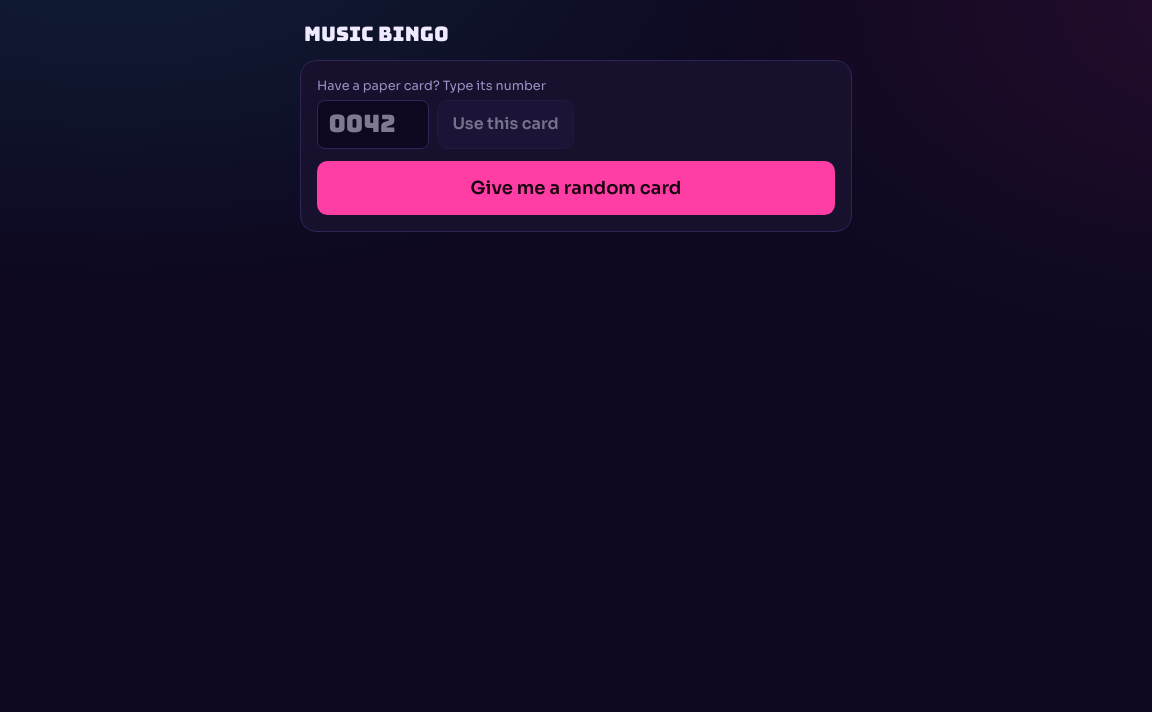
a phone link knows the printed card range and refuses numbers outside it
Type "9" into the field named "Card number" at {"x": 373, "y": 124}, box left=317, top=100, right=429, bottom=149
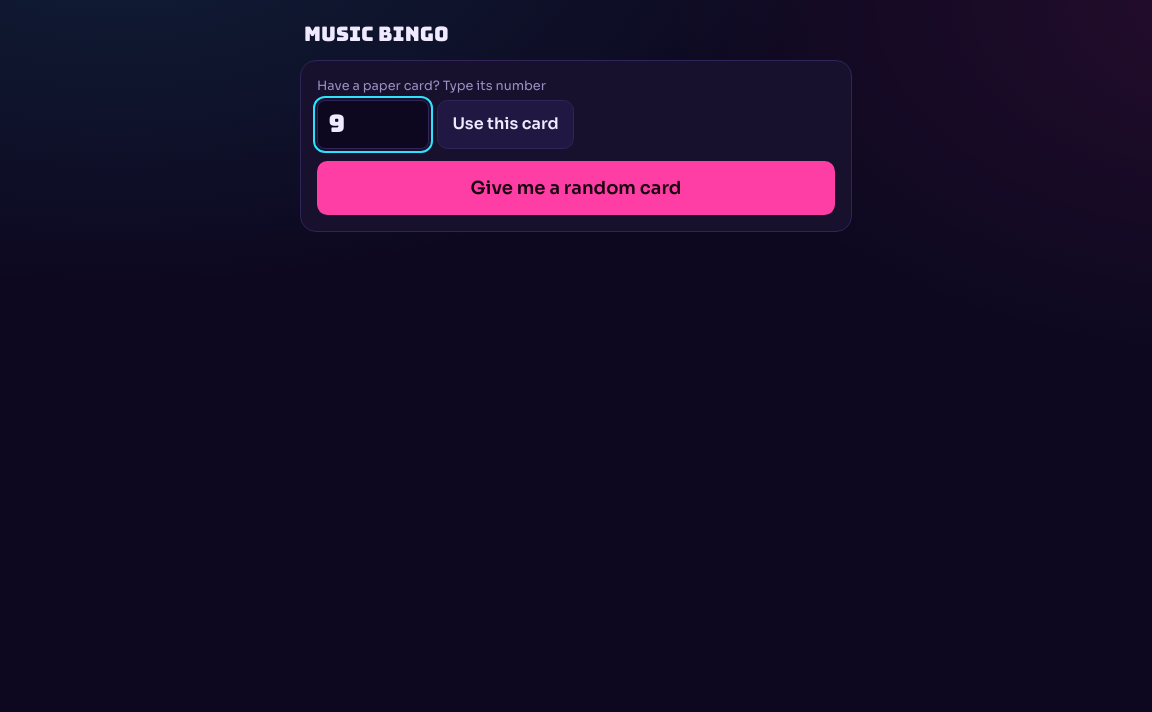
Click the button "Use this card" at {"x": 506, "y": 124}, box left=437, top=100, right=574, bottom=149
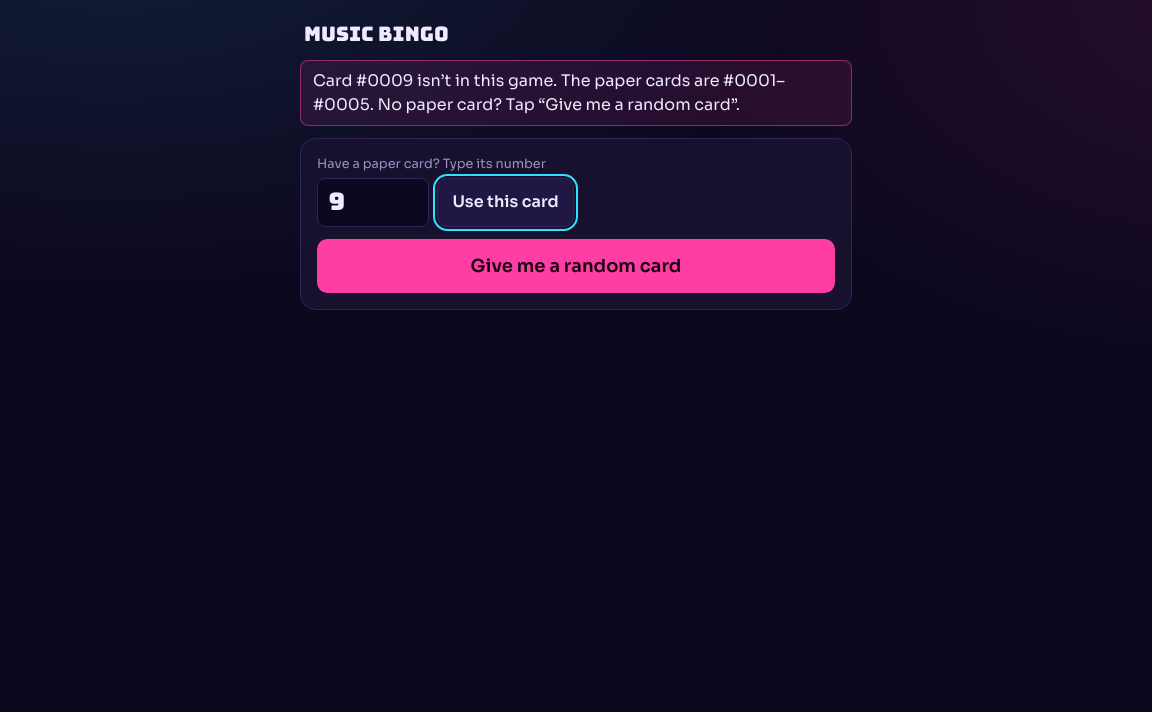
Expected: the message shows "Card #0009 isn’t in this game. The paper cards are #0001–#0005.", left=313, top=70, right=785, bottom=115
Replace the text in the field named "Card number" with "5" at {"x": 373, "y": 202}, box left=317, top=178, right=429, bottom=227
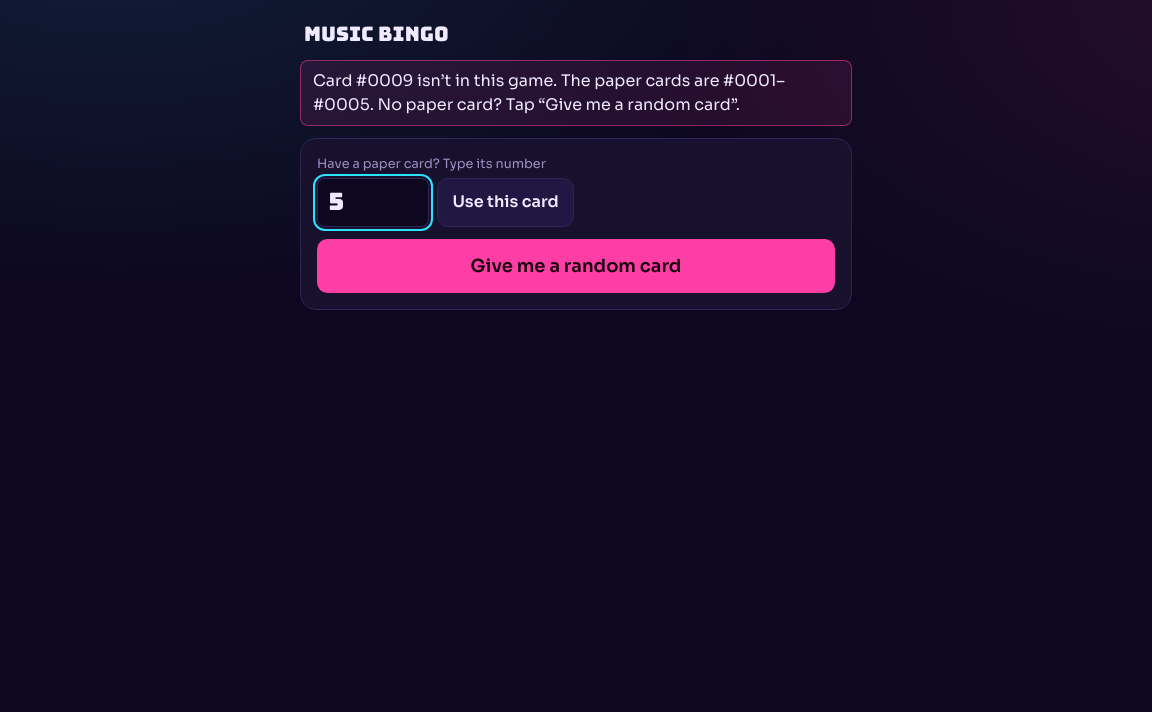
Click the button "Use this card" at {"x": 506, "y": 202}, box left=437, top=178, right=574, bottom=227
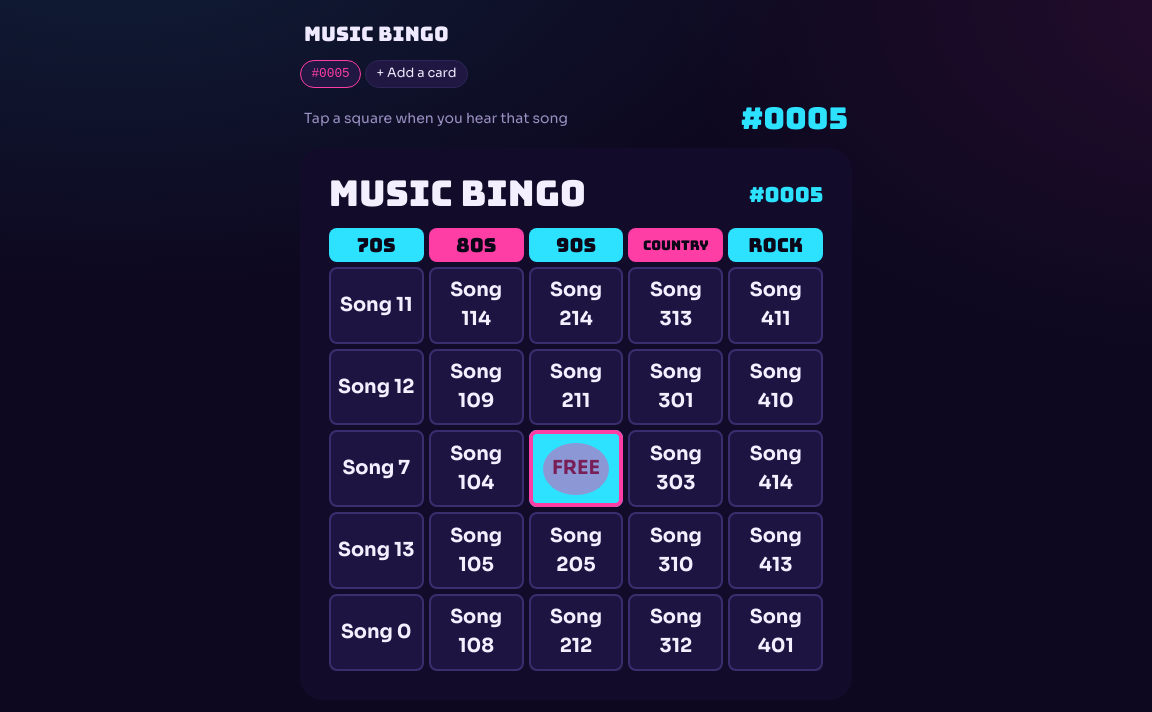
Expected: the text with test id "card-number" reads "#0005", left=741, top=98, right=848, bottom=138
